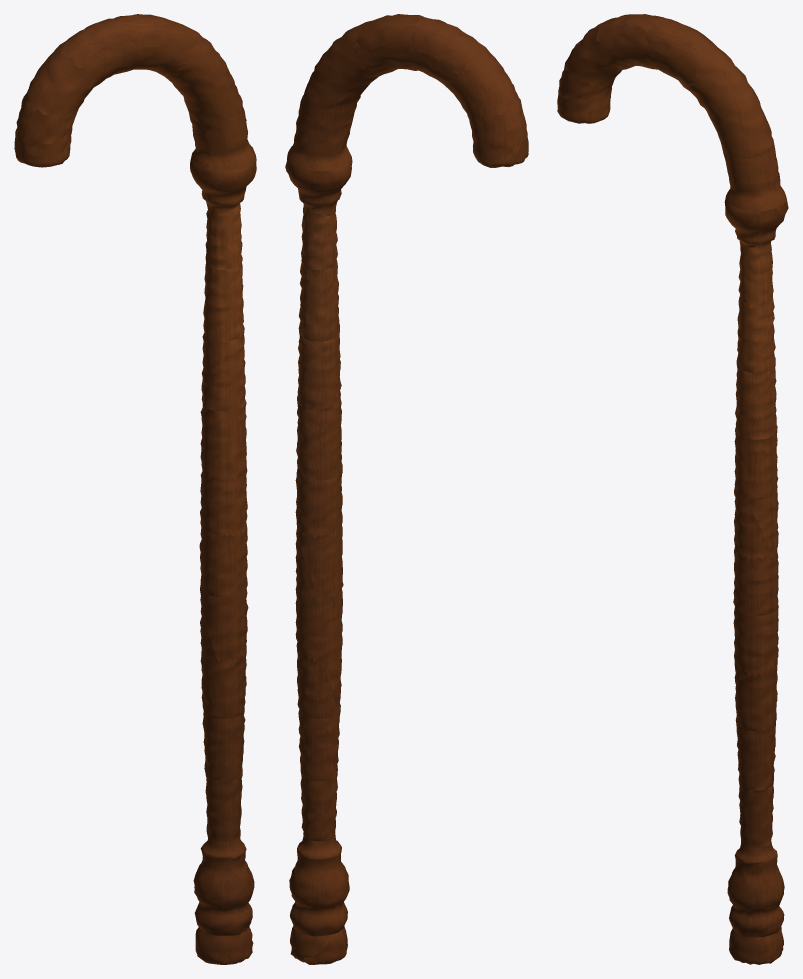
File: prop_cane_wooden.glb
3 views of the same model, side by side, from view 1: azimuth 30°, elevation 25°; view 2: azimuth 150°, elevation 25°; view 3: azimuth 330°, elevation 25° (orthographic). The views are drawn at different scales.
Bounding box in the file's own units: 0.4814 × 1.91 × 0.1213.
1 material, 1 textured.
